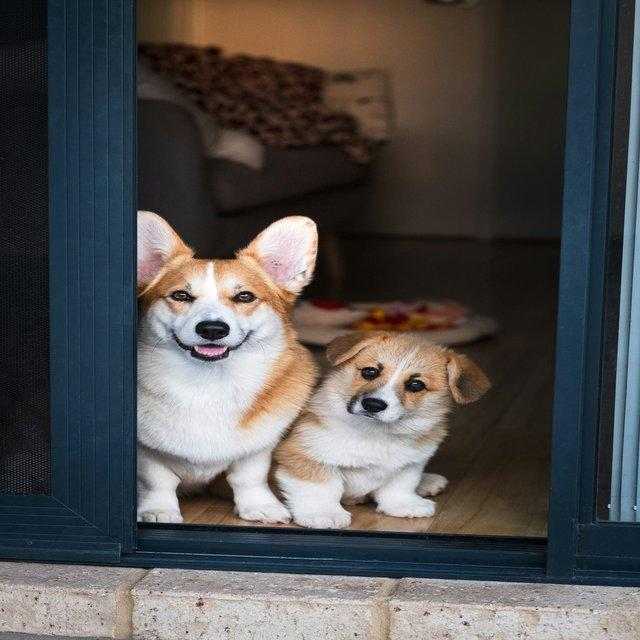corgi: (134, 208, 321, 525), (269, 328, 491, 530)
